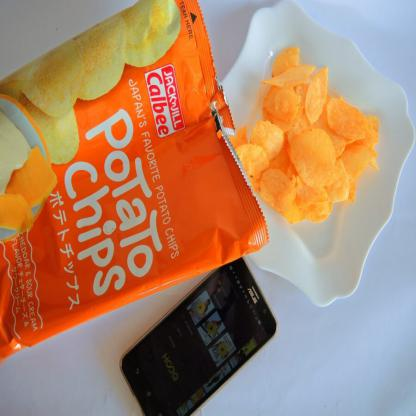potatochip: (0, 0, 275, 367)
